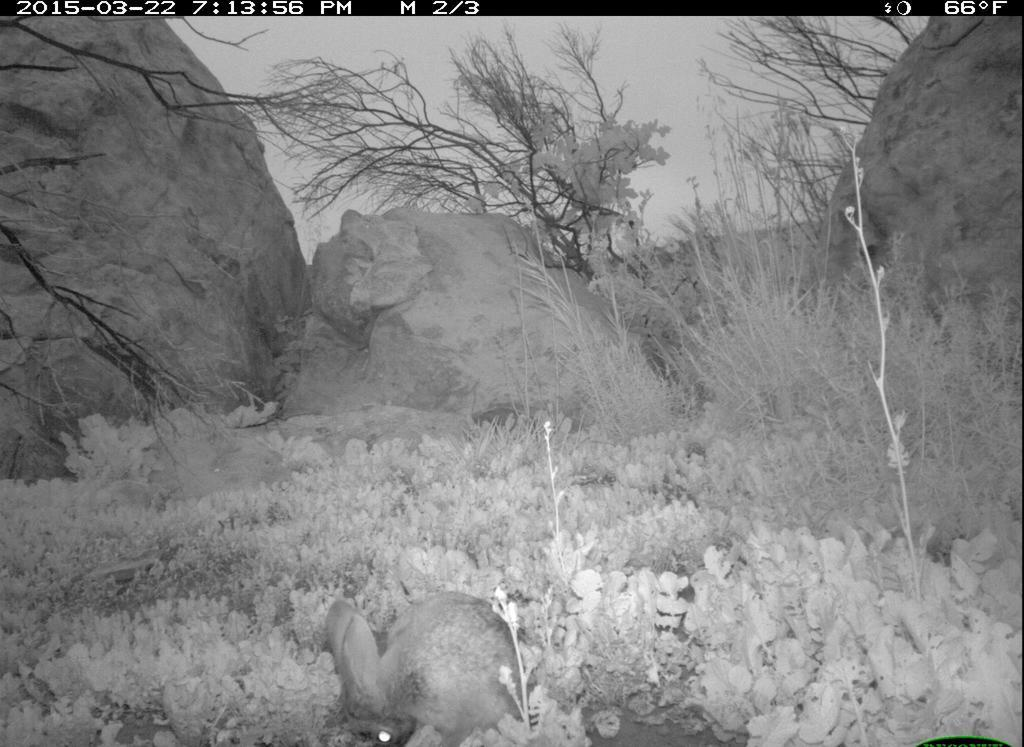rabbit: (315, 580, 546, 747)
